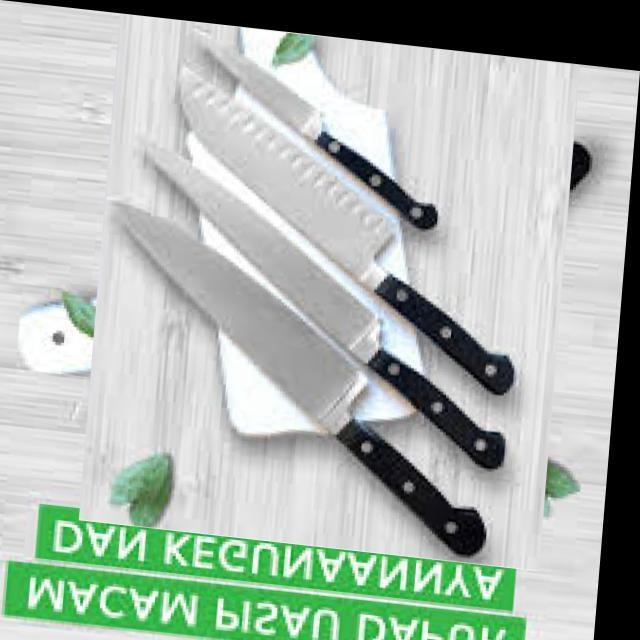knife: (111, 200, 490, 559), (142, 139, 509, 471), (175, 63, 518, 398), (192, 27, 442, 235)
